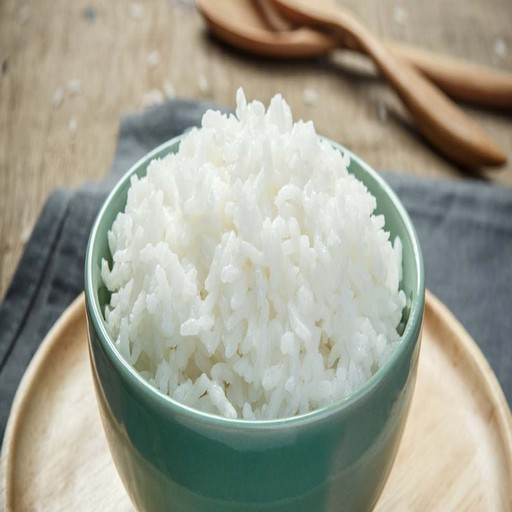rice: (188, 129, 322, 403)
